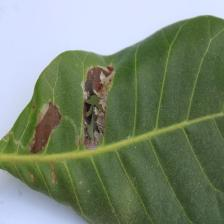leaf miner: (0, 13, 223, 223), (81, 63, 115, 150)
